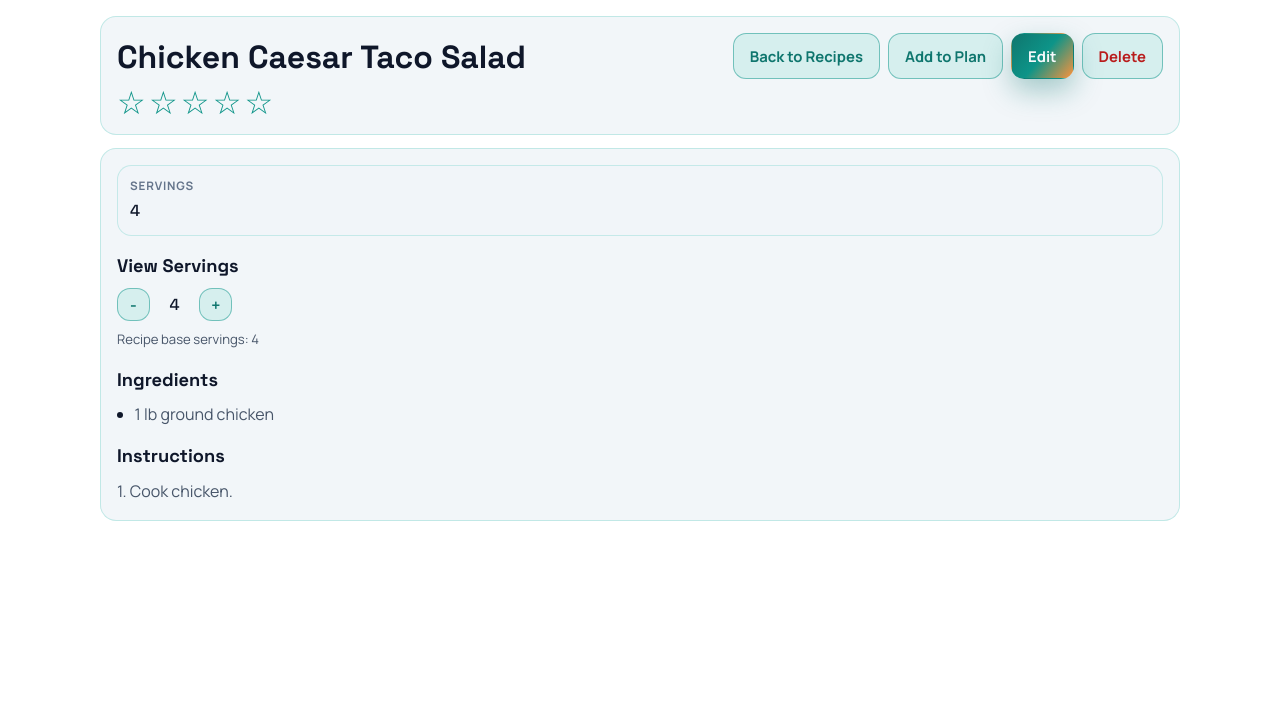
RecipeDetailPage › cancels the delete confirmation without deleting
The image size is (1280, 720).
Expected: the heading "Chicken Caesar Taco Salad" is shown, x1=117 y1=33 x2=526 y2=81
Click the button "Delete" at point(1122, 56), box x1=1082 y1=33 x2=1163 y2=79
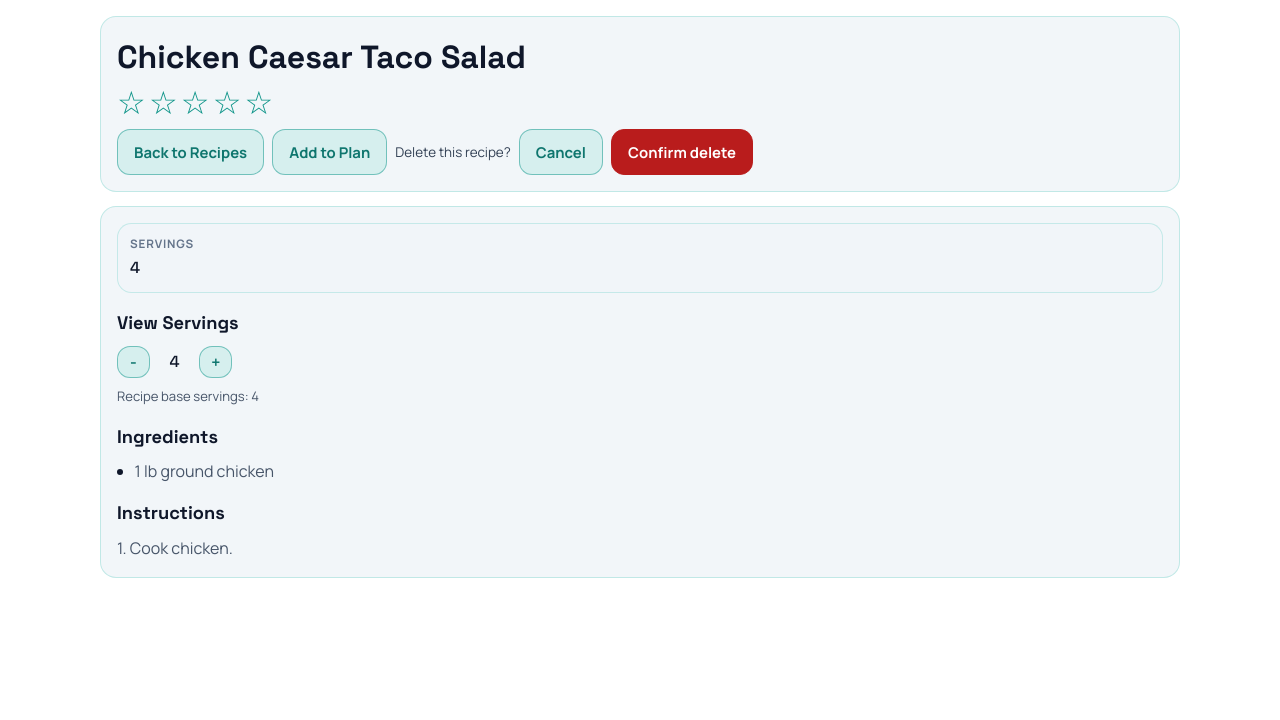
Click the button "Cancel" at point(561, 152), box x1=519 y1=129 x2=603 y2=175
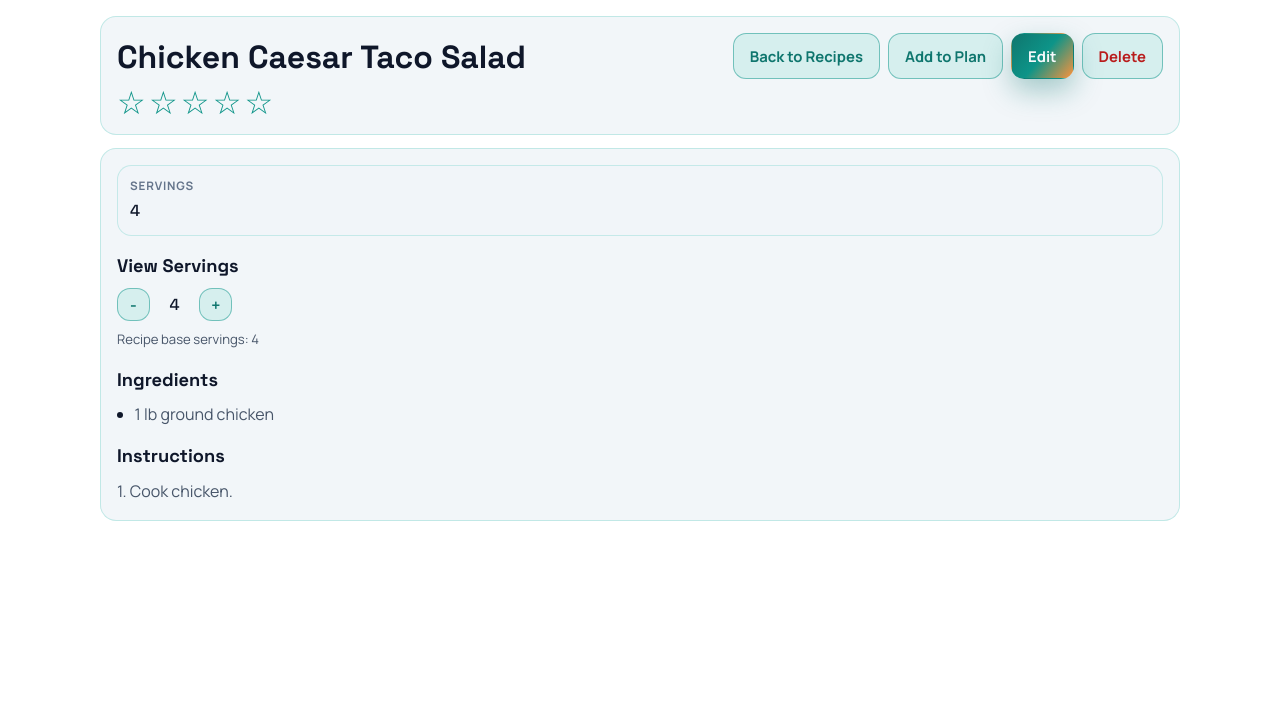
Now the text "Delete this recipe?" is gone
